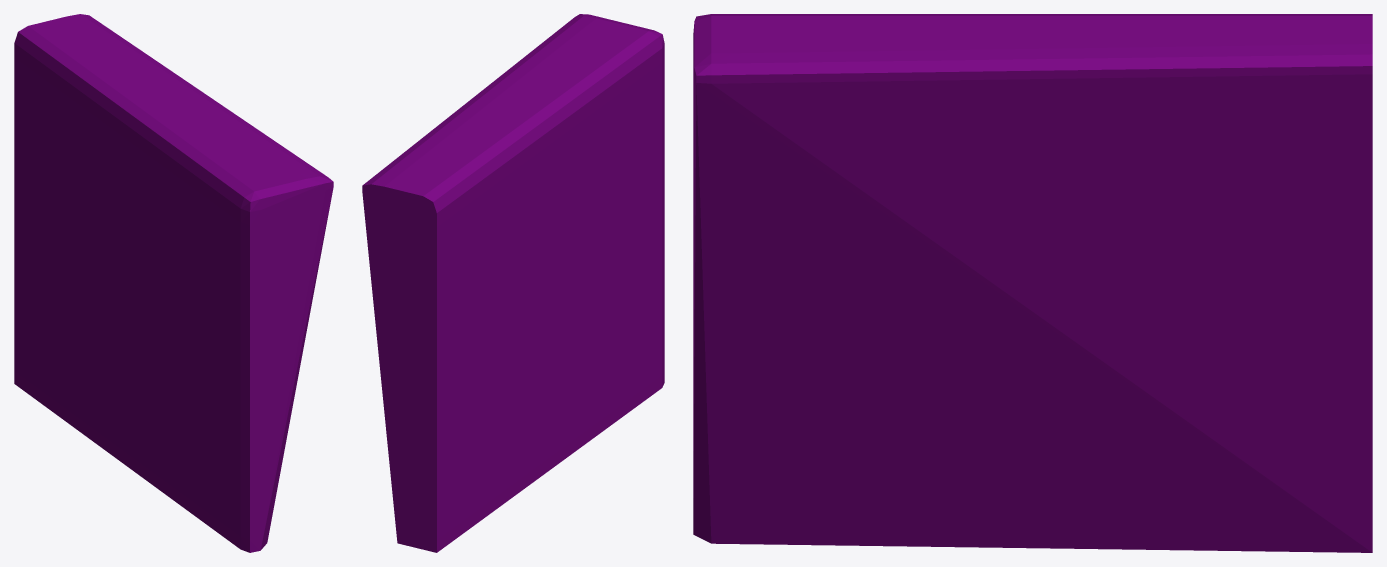
The model's file is left_hip_yaw_link_part_11.obj.
The picture shows the model from 3 angles, left to right: view 1: azimuth 30°, elevation 25°; view 2: azimuth 150°, elevation 25°; view 3: azimuth 270°, elevation 25°; orthographic projection. The views are drawn at different scales.
Size of the model in its own units: 0.00831 by 0.032 by 0.038.
